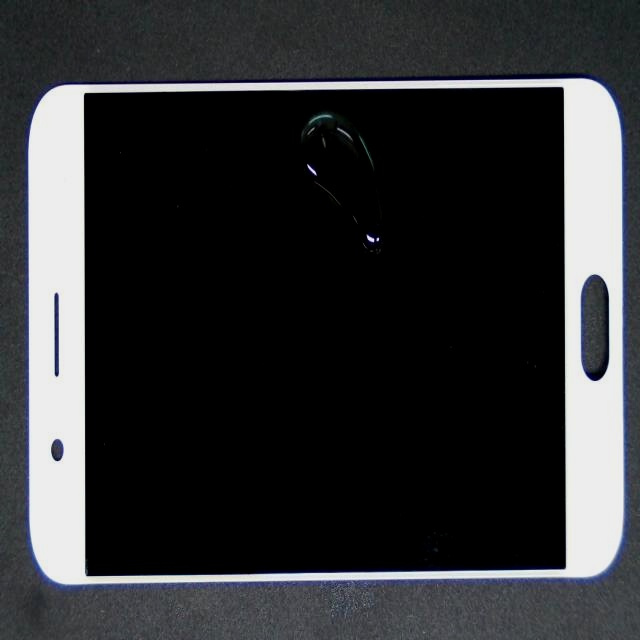oil: (204, 94, 538, 202)
